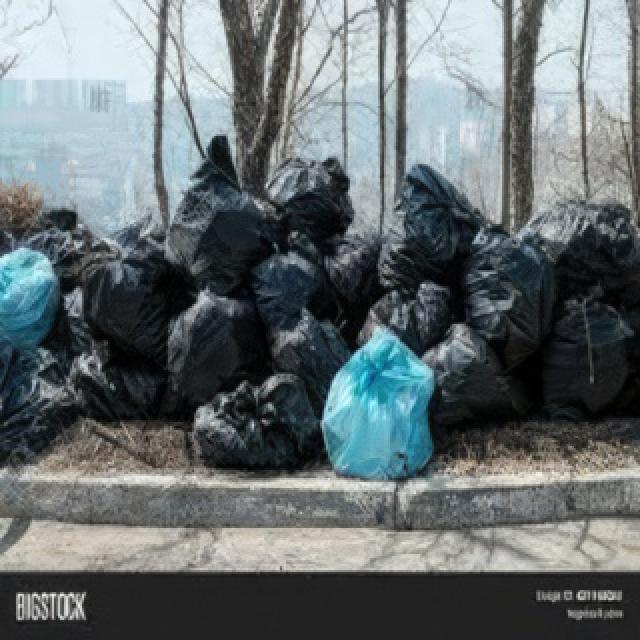Trashbag: (187, 376, 319, 476), (163, 292, 270, 413), (537, 289, 632, 425), (165, 174, 282, 282), (79, 254, 193, 361), (461, 240, 568, 344), (526, 202, 634, 296), (426, 333, 521, 428), (70, 344, 174, 429), (391, 165, 476, 266), (249, 246, 338, 337), (278, 158, 360, 255), (358, 282, 449, 356), (266, 317, 355, 392)
